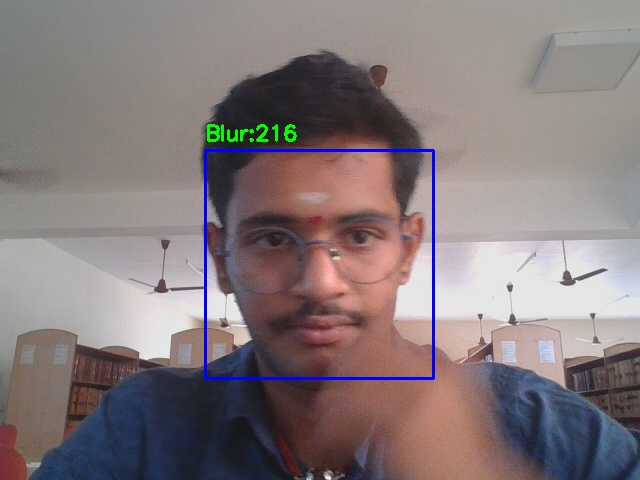real: (205, 150, 433, 378)
